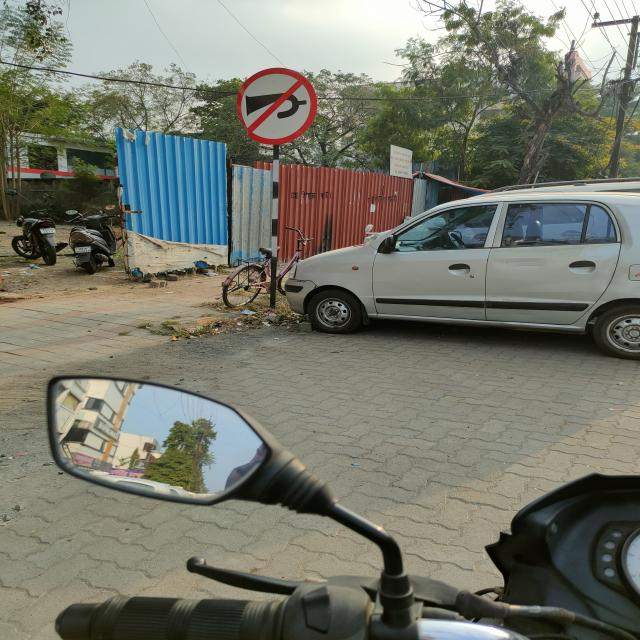HORN_PROHIBITED: (236, 68, 319, 146)
